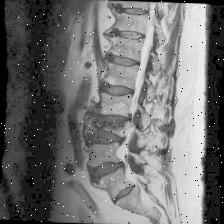disc: (99, 78, 138, 100), (105, 50, 144, 70), (116, 1, 154, 20), (111, 26, 150, 44)
hdisc: (86, 157, 130, 183), (108, 181, 142, 206), (90, 131, 128, 150), (98, 108, 136, 124)
